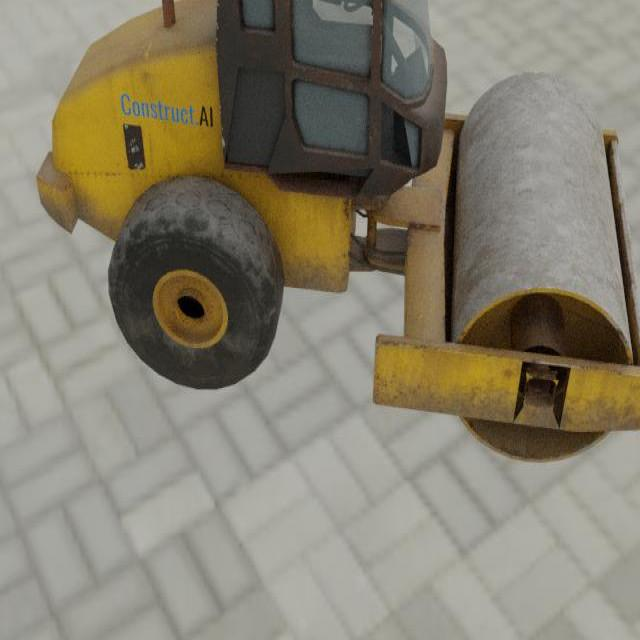Roller: (35, 0, 640, 464)
